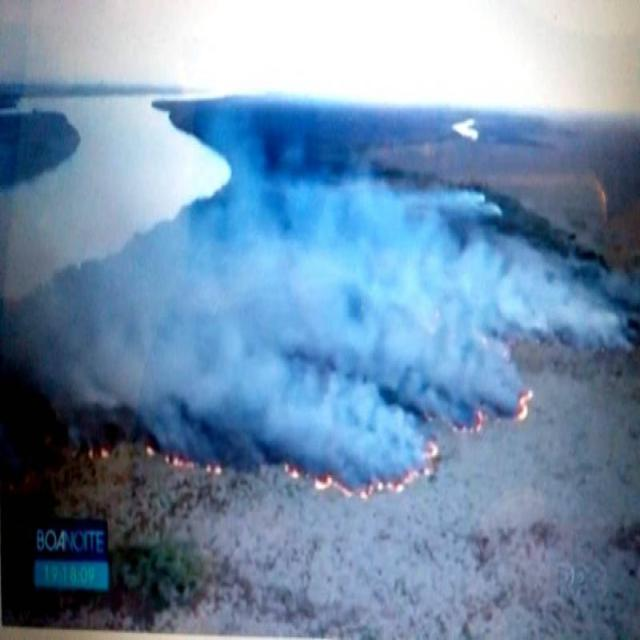Fire: (314, 473, 372, 502), (406, 466, 434, 488), (372, 480, 402, 496), (165, 454, 194, 470), (422, 438, 442, 461), (283, 461, 302, 478), (474, 406, 484, 432), (456, 422, 470, 440), (206, 462, 221, 475), (146, 444, 156, 458), (100, 450, 110, 460), (88, 448, 94, 458)
Smoke: (16, 122, 394, 440), (397, 160, 640, 390), (306, 444, 406, 468), (394, 394, 419, 439)
